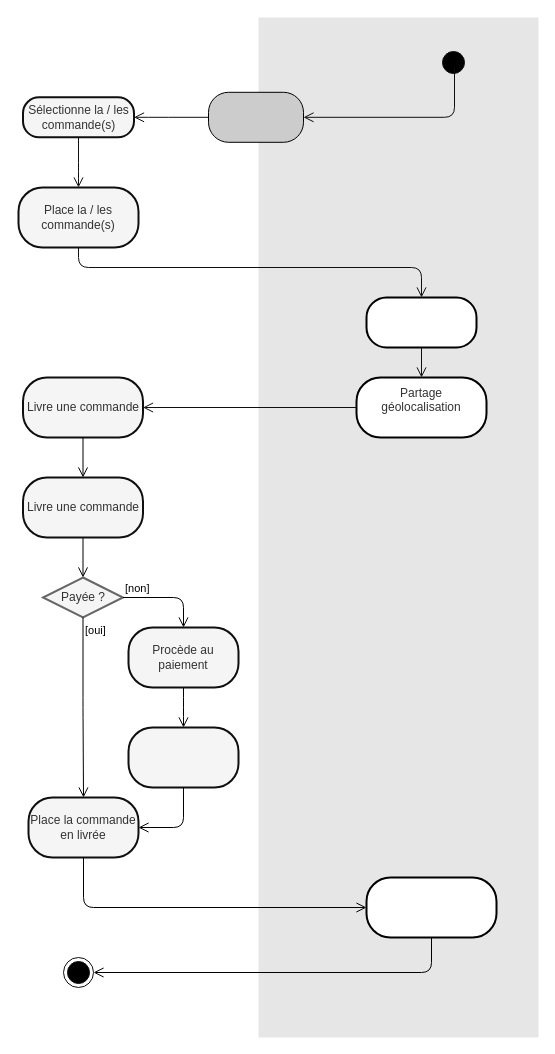
Image size: 555x1054. Some labels were removed from this diagram. The centre of each missing label's shape, as x and y in pixels:
Affiche les commandes à livrer: (256,116)
Enregistre la / les commande(s): (421,322)
Enregistre les informations de livraison: (431,907)
Place la commande en "payée": (183,757)
